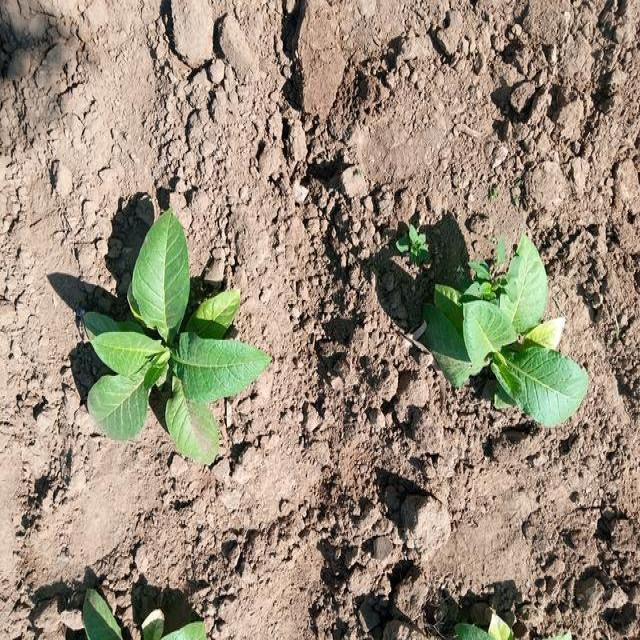crop: (84, 215, 245, 461), (428, 260, 584, 424)
